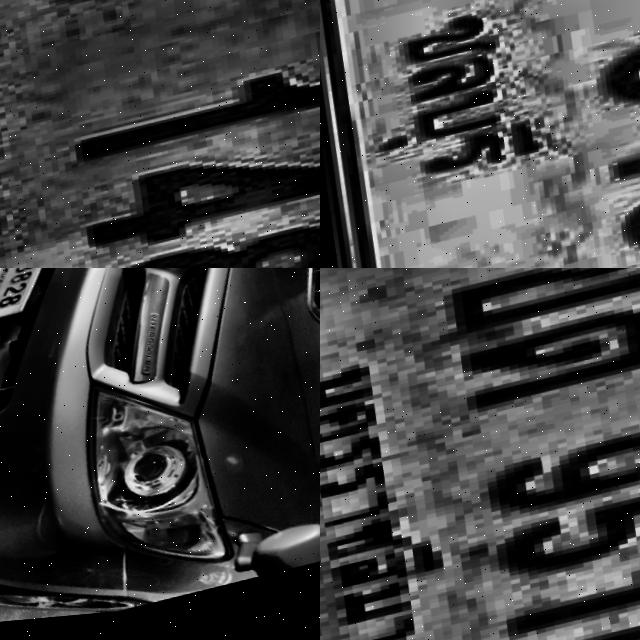license-plate: (320, 268, 640, 640), (0, 0, 320, 268), (320, 0, 640, 268), (0, 268, 77, 333)
